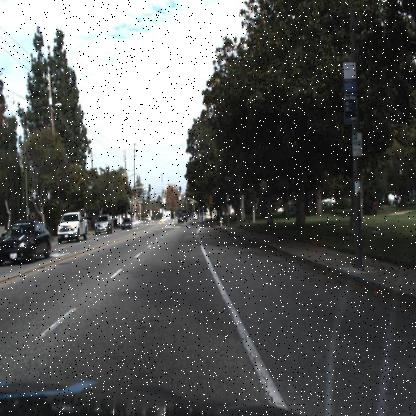car: (1, 222, 52, 266), (56, 209, 88, 244), (93, 214, 113, 236), (174, 214, 185, 230), (121, 218, 133, 232), (186, 212, 196, 228)
